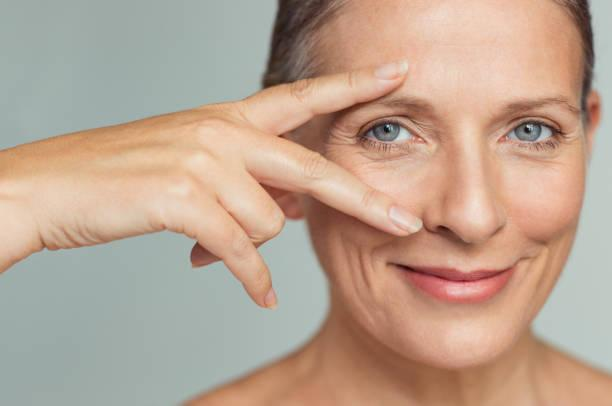Dry-Skin: (518, 172, 589, 291)
